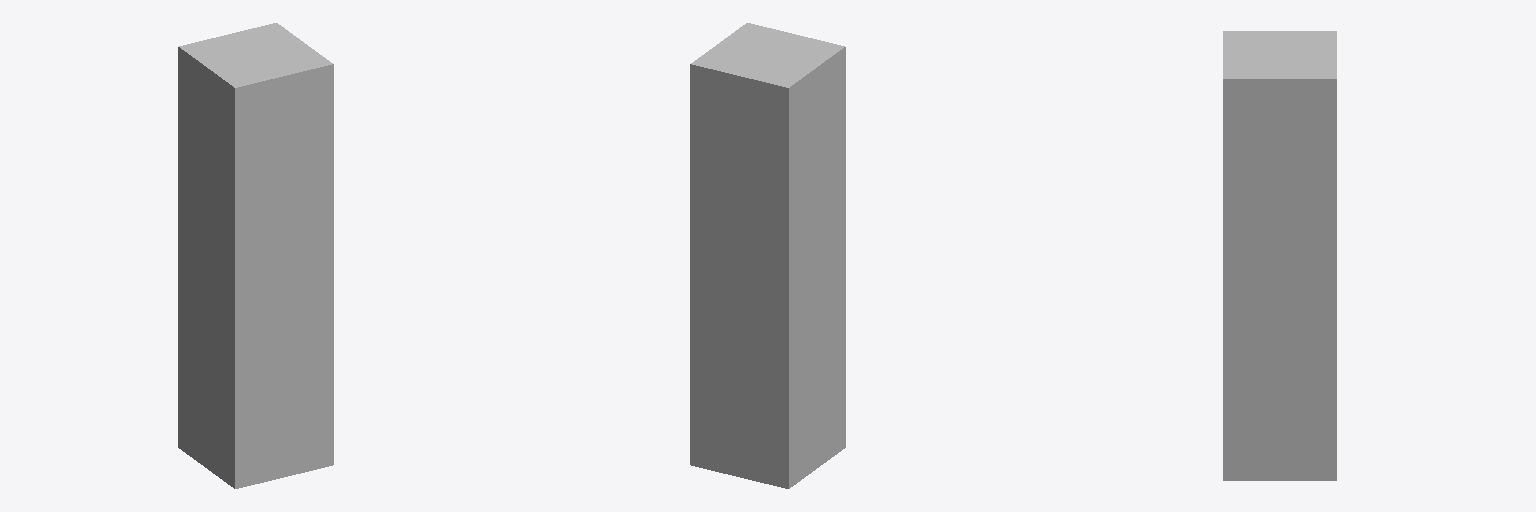
The model's file is lamp.obj.
3 views of the same model, side by side, from view 1: azimuth 30°, elevation 25°; view 2: azimuth 150°, elevation 25°; view 3: azimuth 270°, elevation 25° (orthographic).
Visible parts, largest first — view 1: lamp; view 2: lamp; view 3: lamp.
Boxes of the visible parts, x1,y1,x2,y2 form: lamp: [178, 23, 333, 488]; lamp: [690, 23, 845, 488]; lamp: [1223, 31, 1336, 480].
Size of the model in its own units: 10 by 39 by 10.